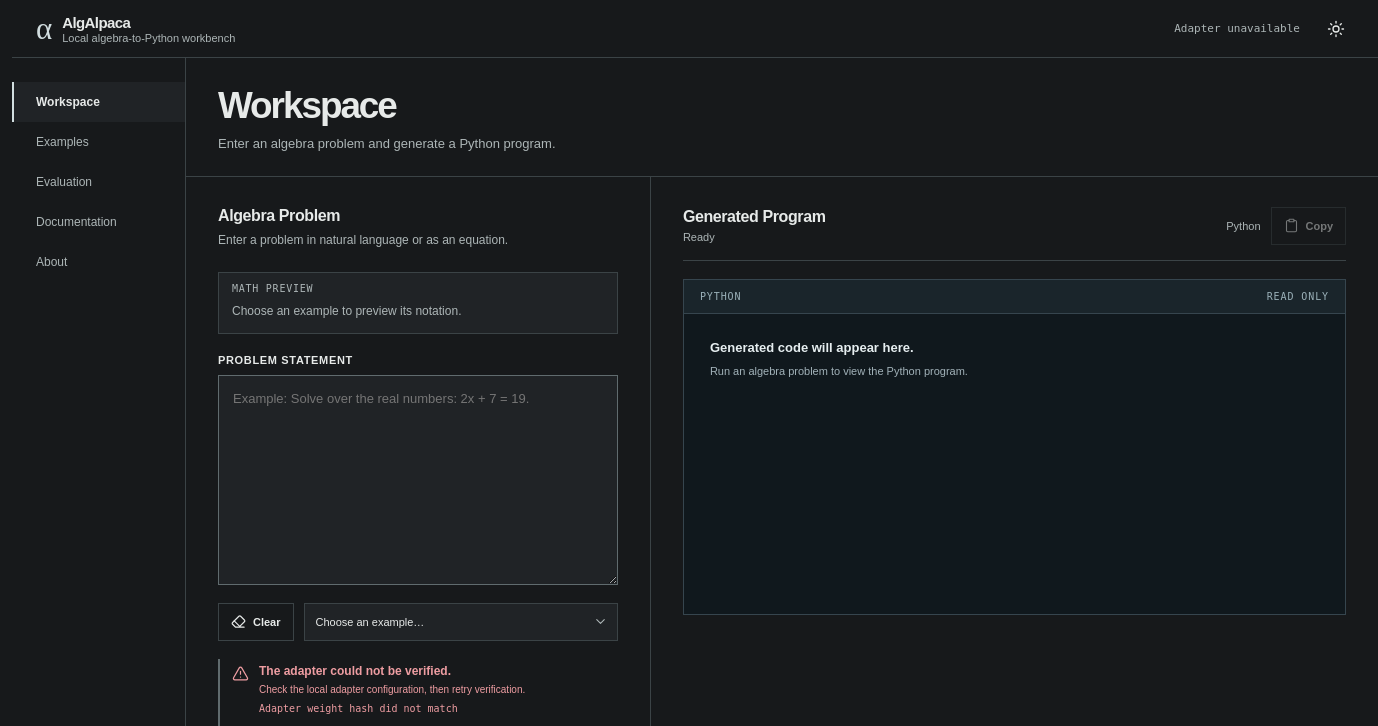
Test: verification and request recovery › shows safe verification recovery, preserves input, disables generation, and keeps navigation usable
In the text box labelled "Problem statement": (418, 480) [218,375,618,585], type "Solve x + 1 = 2."
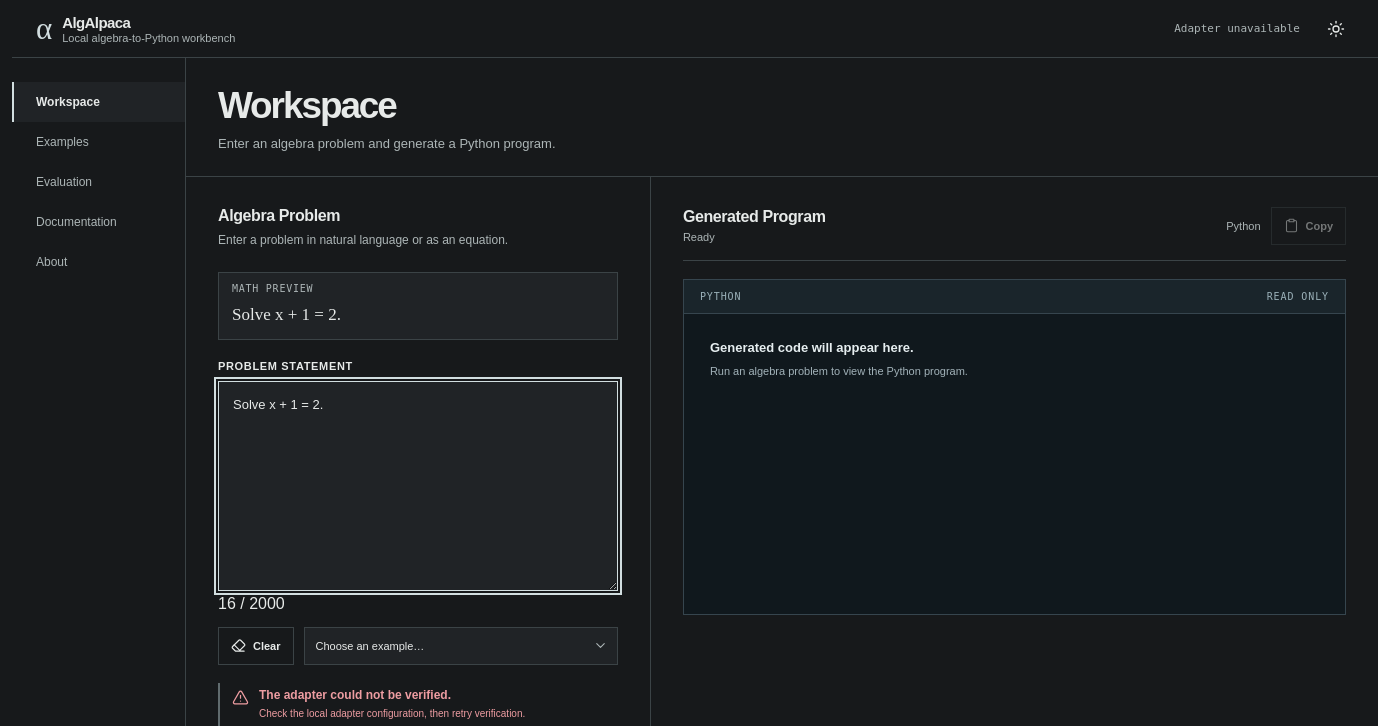
Expected: the text "The adapter could not be verified." is shown, [259,688,451,702]
Expected: the text "Check the local adapter configuration, then retry verification." is shown, [259,707,525,721]
Click the button "Evaluation": click(98, 182) [12,162,185,202]
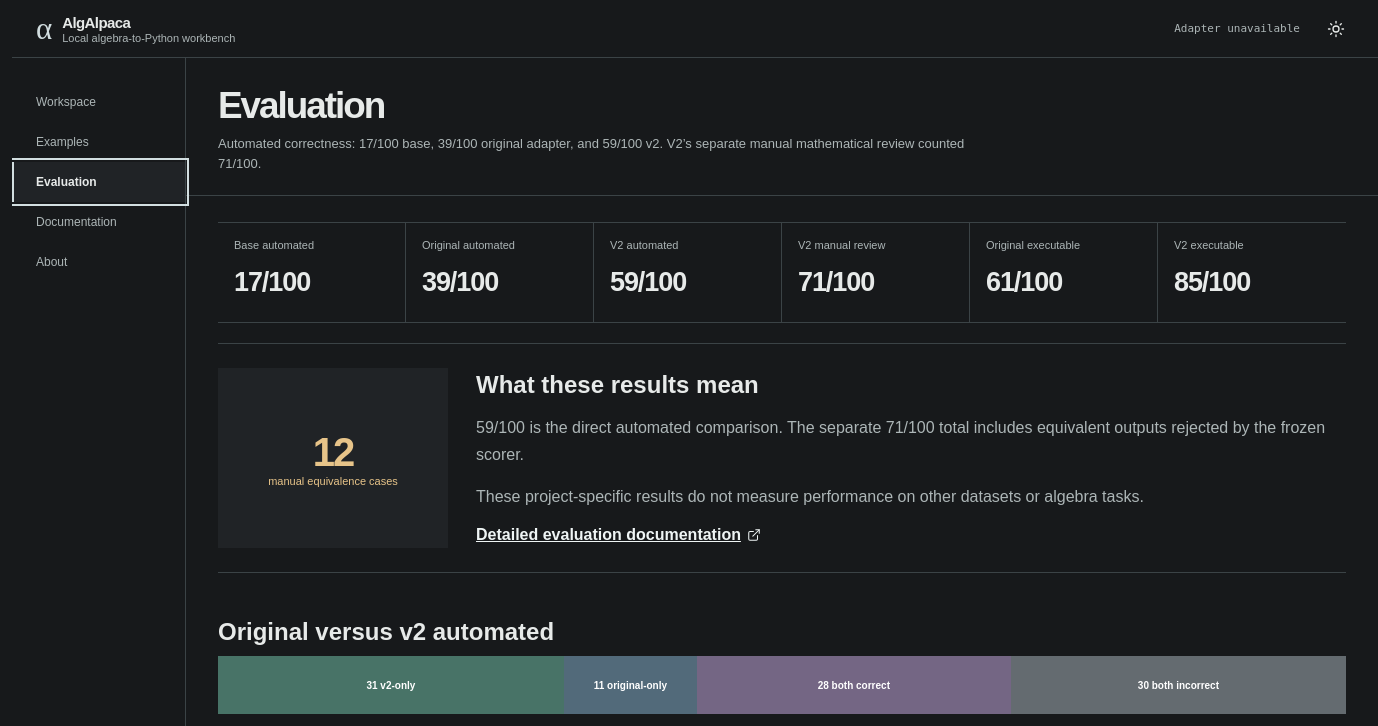
Expected: the text "59/100" is shown, [610,267,686,297]
